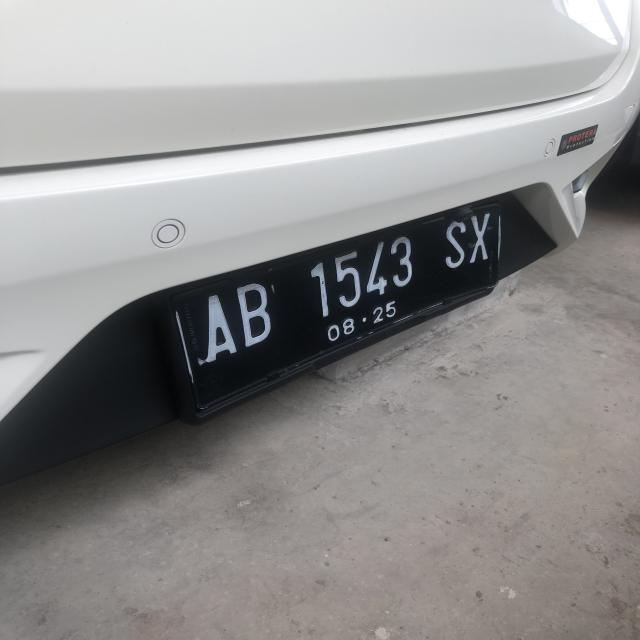1: (307, 260, 331, 320)
3: (390, 235, 418, 291)
4: (365, 240, 388, 298)
5: (332, 250, 362, 310)
A: (202, 292, 236, 362)
B: (236, 280, 274, 348)
S: (444, 219, 468, 269)
X: (468, 210, 492, 264)
